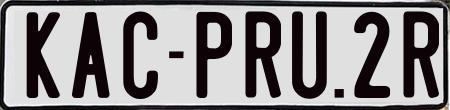2: (351, 12, 390, 99)
A: (71, 11, 110, 101)
C: (123, 8, 159, 98)
K: (27, 10, 64, 101)
P: (194, 10, 236, 97)
R: (242, 11, 279, 102), (403, 8, 437, 101)
U: (292, 8, 330, 102)
